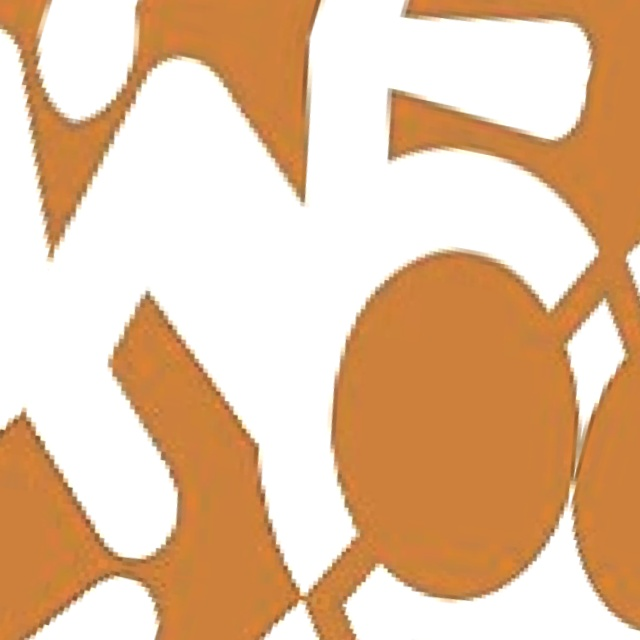ISA: (0, 0, 640, 640), (0, 0, 94, 546), (0, 546, 546, 640), (94, 0, 640, 94), (546, 94, 640, 640)
